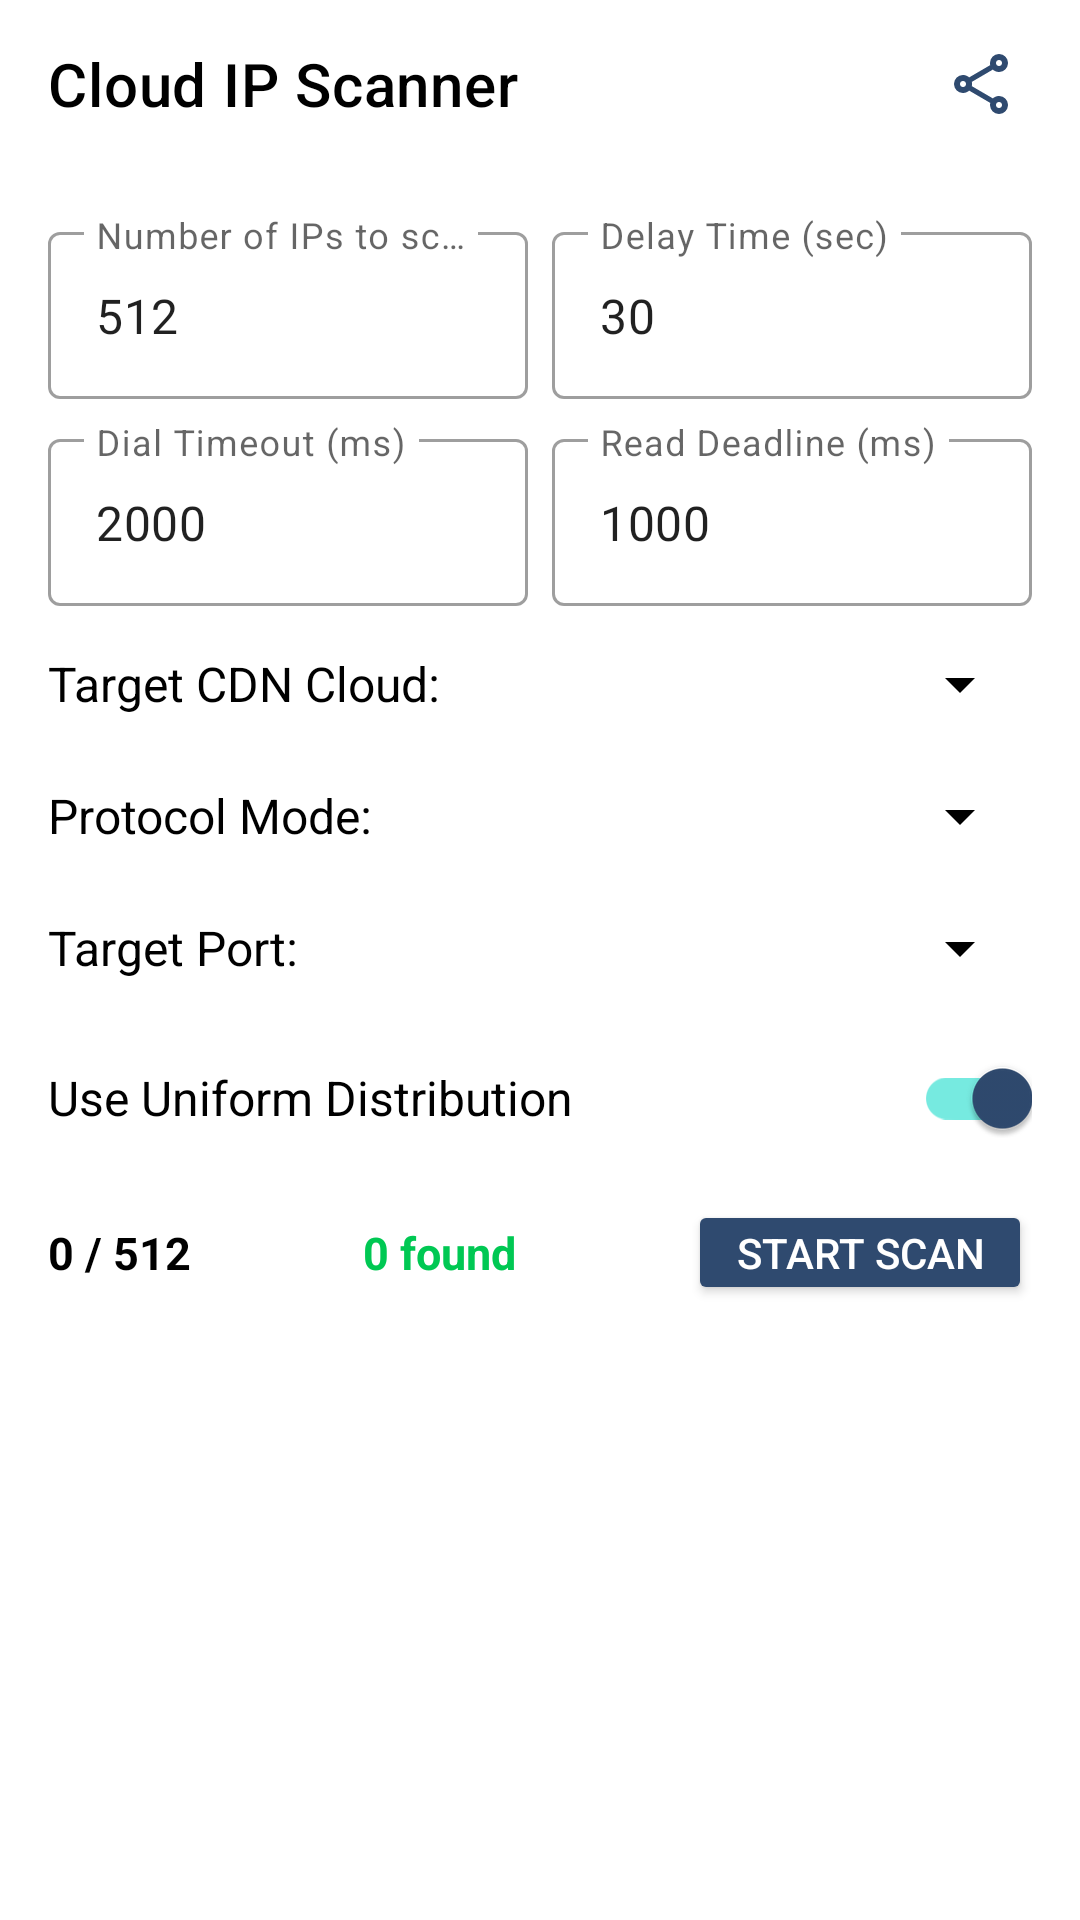

Named icons in this screenshot (1080x1920) and their bounding boxes, bbox(x1, y1, x2, y2):
Share IPs: bbox(954, 54, 1008, 114)
